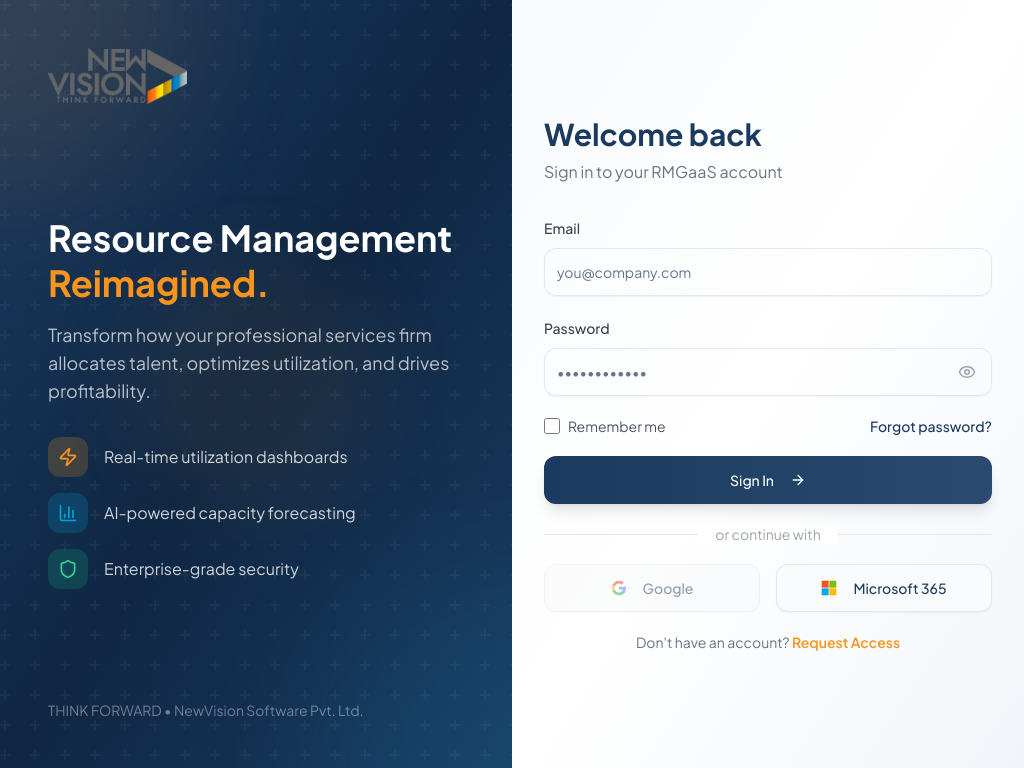
it: LoginPage › Login Flow › shows error message on failed login
The image size is (1024, 768).
Fill wrong credentials
In the field labelled "Email": (768, 272) [544, 248, 992, 296], type "wrong@example.com"
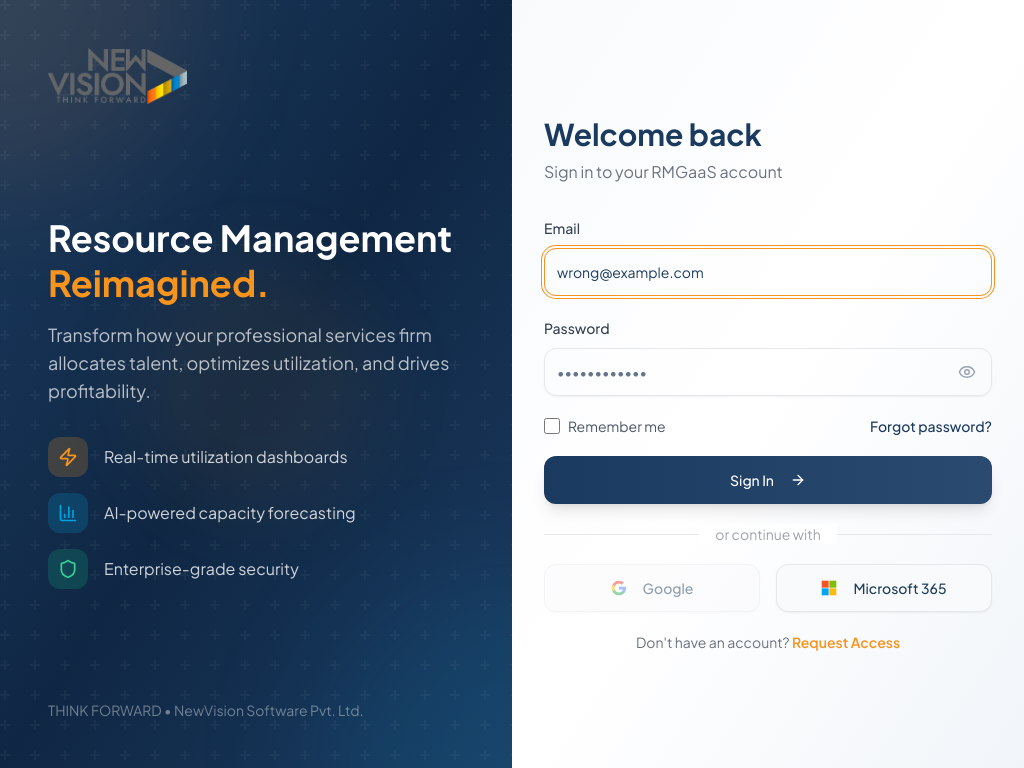
In the password field labelled "Password": (768, 372) [544, 348, 992, 396], type "wrongpassword"
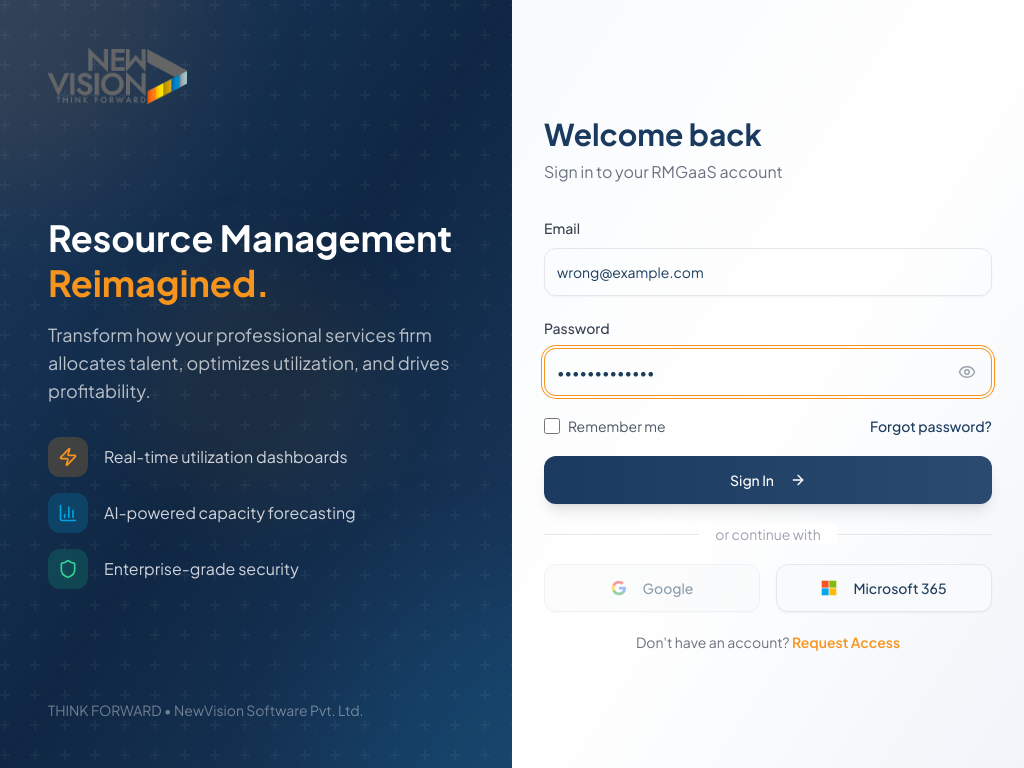
Click the button "Sign In": (768, 480) [544, 456, 992, 504]
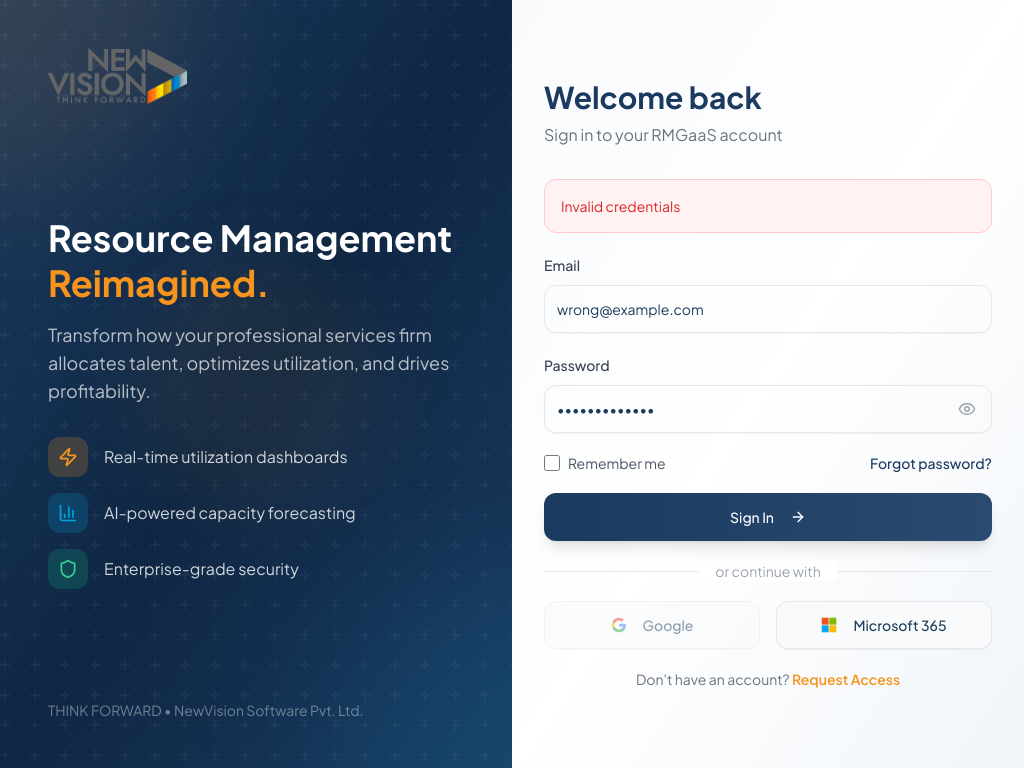
Check: the text "Invalid credentials" is shown, box [544, 179, 992, 233]
